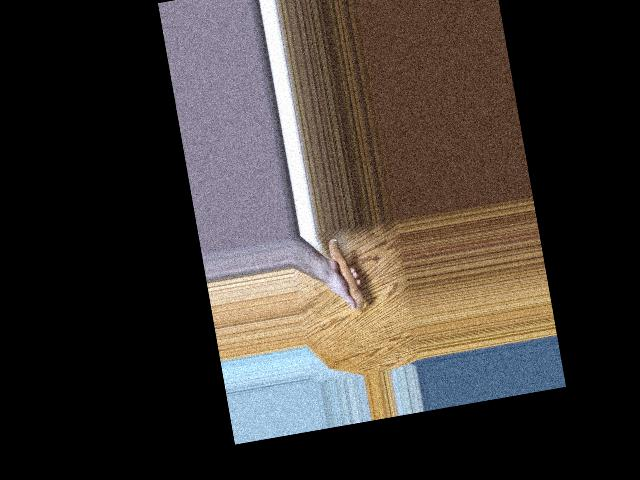sweet_potato: (326, 235, 365, 313)
